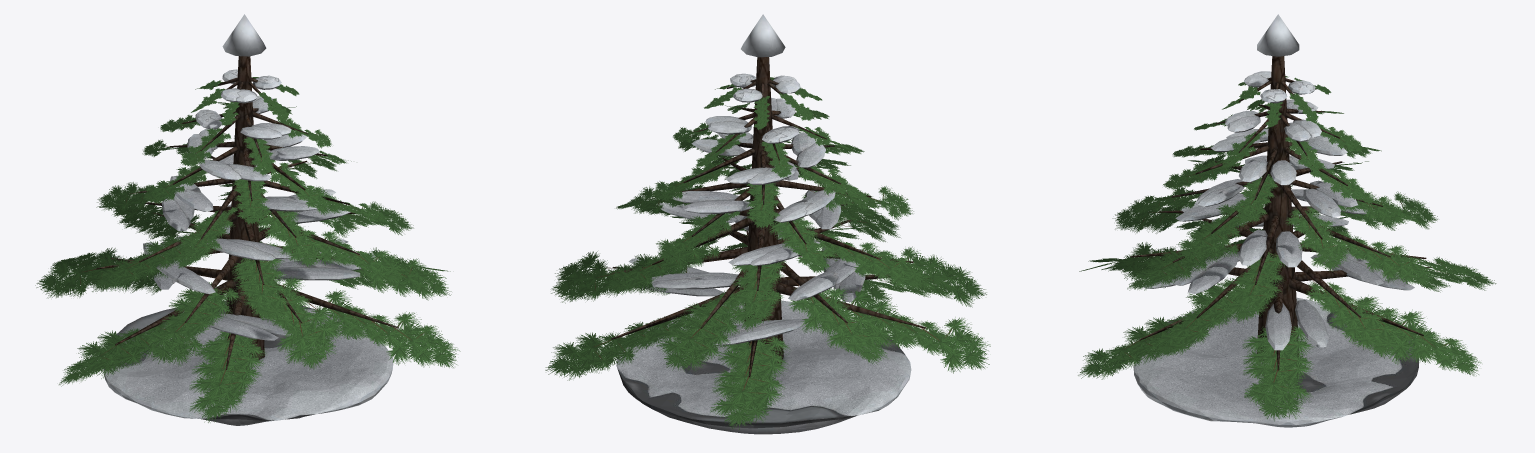
File: geada_arvore_neve_b.glb
The picture shows the model from 3 angles, left to right: view 1: azimuth 30°, elevation 25°; view 2: azimuth 150°, elevation 25°; view 3: azimuth 270°, elevation 25°; orthographic projection.
Parts seen in each view (by area): view 1: agulhas, geada_arvore_neve_b_tronco; view 2: agulhas, geada_arvore_neve_b_tronco; view 3: geada_arvore_neve_b_tronco, agulhas.
Boxes of the visible parts, x1=… form: agulhas: x1=35, y1=77, x2=460, y2=422; geada_arvore_neve_b_tronco: x1=96, y1=14, x2=398, y2=425; agulhas: x1=545, y1=77, x2=990, y2=429; geada_arvore_neve_b_tronco: x1=611, y1=14, x2=926, y2=434; geada_arvore_neve_b_tronco: x1=1130, y1=14, x2=1431, y2=427; agulhas: x1=1078, y1=76, x2=1496, y2=421.
Bounding box in the file's own units: 6.79 × 5.42 × 6.39.
2 materials, 2 textured.
